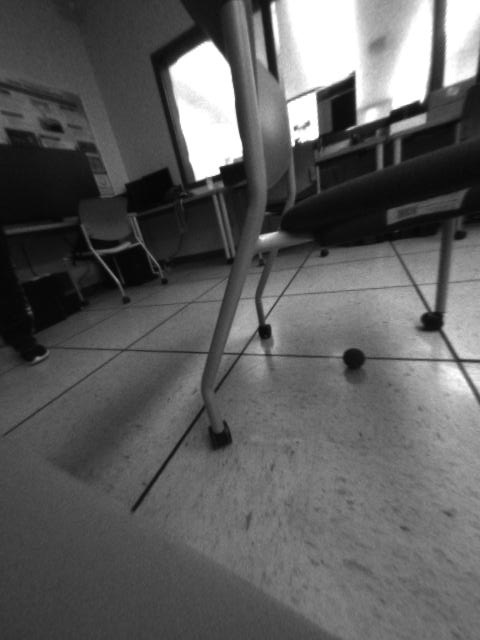dogtoy: (334, 340, 374, 382)
